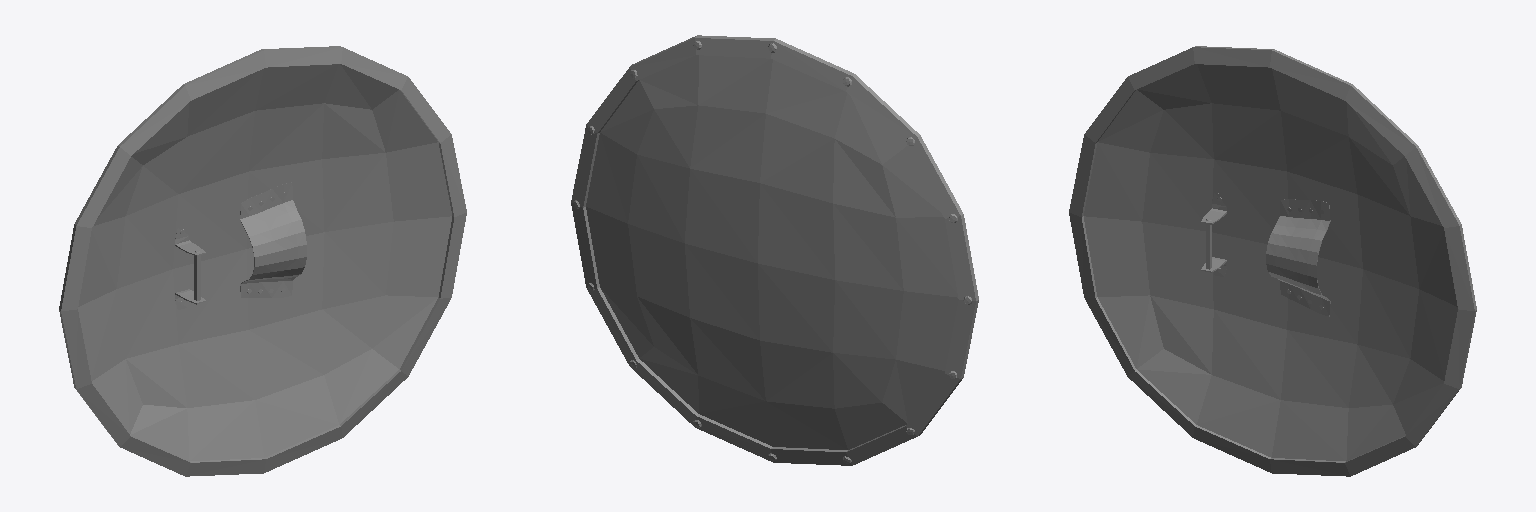
File: Shield_LowPoly.obj
The picture shows the model from 3 angles: view 1: azimuth 30°, elevation 25°; view 2: azimuth 150°, elevation 25°; view 3: azimuth 330°, elevation 25°; orthographic projection.
Parts seen in each view (by area): view 1: Shield, Holder; view 2: Shield, Bolts; view 3: Shield, Holder.
Part boxes in pixels (x1,y1,x2,y2): Shield: (59, 46, 466, 476); Holder: (175, 182, 306, 309); Shield: (571, 35, 978, 465); Bolts: (573, 41, 972, 463); Shield: (1069, 46, 1476, 476); Holder: (1201, 193, 1330, 316).
Size of the model in its own units: 92.41 by 92.01 by 8.1.